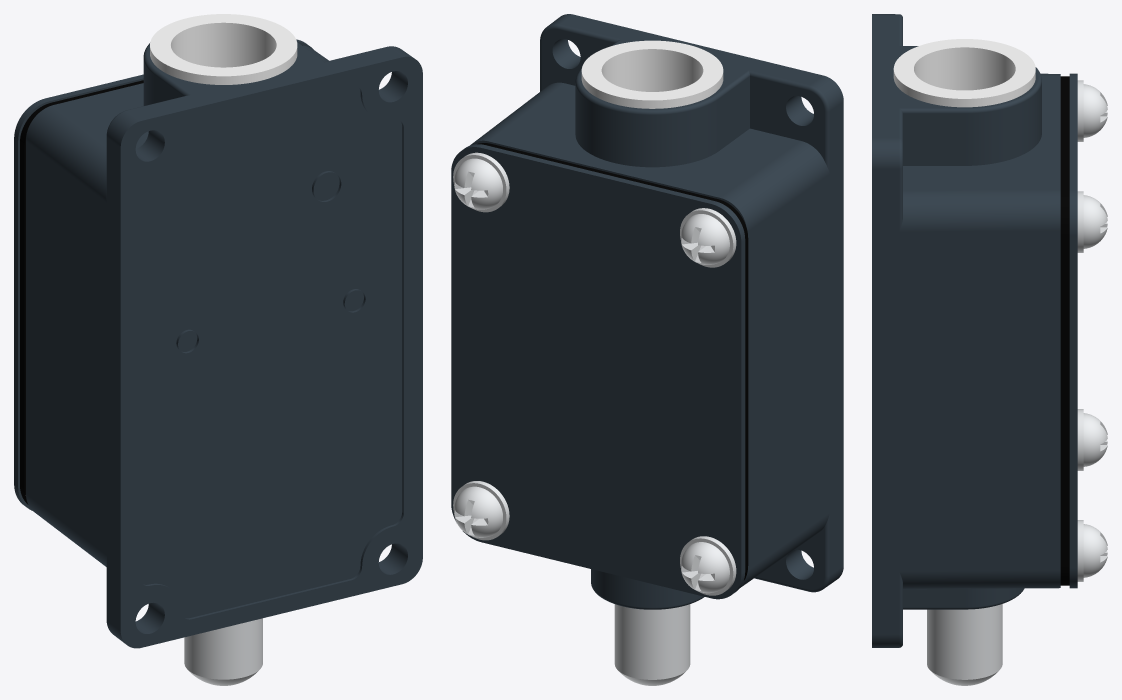
The model's file is model-ce3ccf891cad.glb.
The picture shows the model from 3 angles, left to right: view 1: azimuth 30°, elevation 25°; view 2: azimuth 150°, elevation 25°; view 3: azimuth 270°, elevation 25°; orthographic projection. The views are drawn at different scales.
Parts seen in each view (by area): view 1: factory; view 2: factory; view 3: factory.
Part boxes in pixels (x1,y1,x2,y2): factory: (14,14,422,685); factory: (451,14,843,685); factory: (872,14,1107,685).
Bounding box in the file's own units: 0.0435 × 0.0875 × 0.0305.
